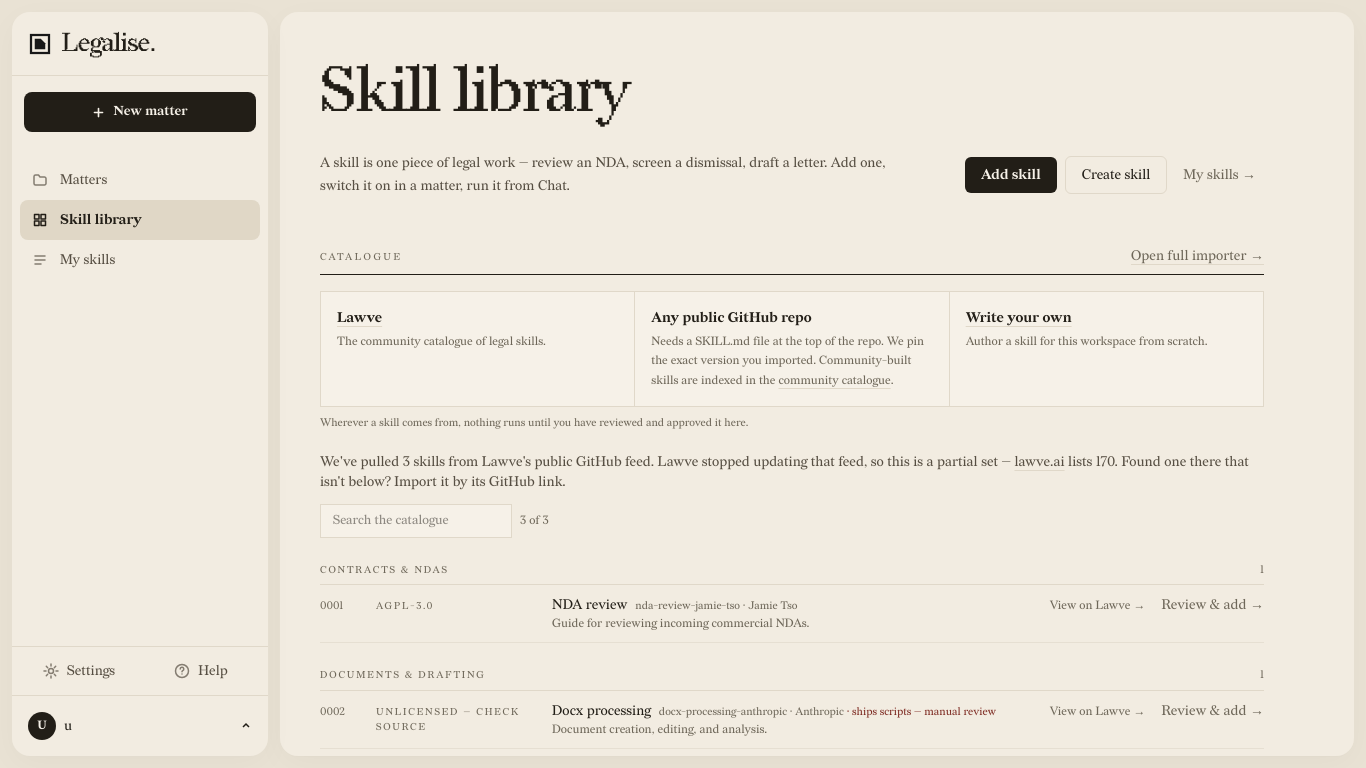
ModulesCatalog — integrations home › renders the catalogue as a grouped ledger: display names, descriptions, licence honesty, scripts marker
This screenshot has width=1366, height=768.
Expected: the element with test id "shelf-group-contracts" is shown, [320,562,1264,643]
Expected: the text "NDA review" is shown, [552,596,627,613]
# A search that empties a group hides it with its header.
Type "NDA" into the field with test id "shelf-search" at (416, 520), box [320,504,512,538]
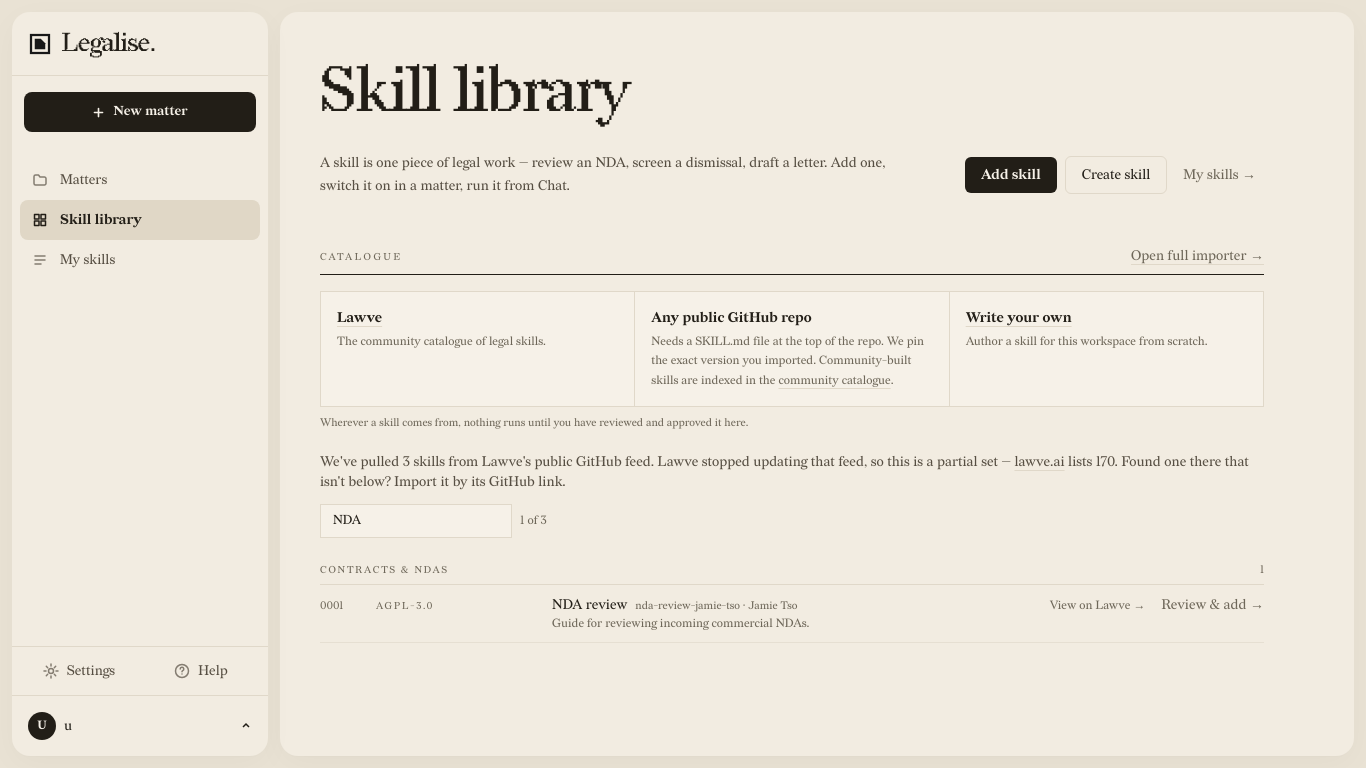
Expected: the element with test id "shelf-group-contracts" is shown, [320,562,1264,643]
Expected: the element with test id "shelf-group-documents" is gone
